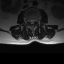CCS_normal: (31, 16, 33, 26)
LFS_normal: (35, 15, 37, 23)
LLS_normal: (33, 16, 35, 25)
RFS_normal: (26, 16, 28, 24)
RLS_normal: (28, 16, 31, 24)
